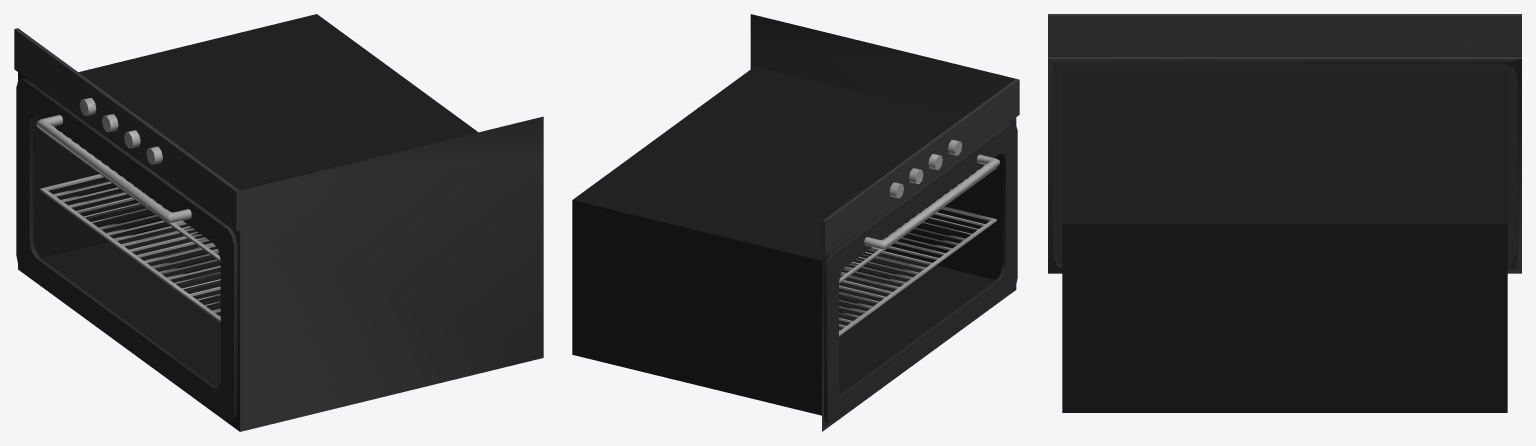
File: Oven.fbx
3 renders of one model, left to right at view 1: azimuth 30°, elevation 25°; view 2: azimuth 150°, elevation 25°; view 3: azimuth 270°, elevation 25°, orthographic. The views are drawn at different scales.
Visible parts, largest first — view 1: Oven; view 2: Oven; view 3: Oven.
Boxes of the visible parts, left/top/right/bottom form: Oven: left=14, top=14, right=543, bottom=431; Oven: left=572, top=14, right=1019, bottom=431; Oven: left=1048, top=14, right=1521, bottom=412.
Size of the model in its own units: 100 by 60 by 86.
1 material, 1 textured.
